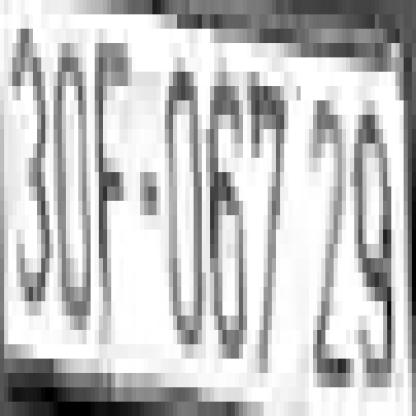0: (53, 43, 90, 316), (165, 57, 202, 330)
2: (305, 100, 342, 373)
3: (12, 29, 50, 301)
6: (206, 72, 243, 344)
7: (247, 86, 280, 359)
9: (354, 100, 387, 373)
F: (95, 43, 132, 316)
